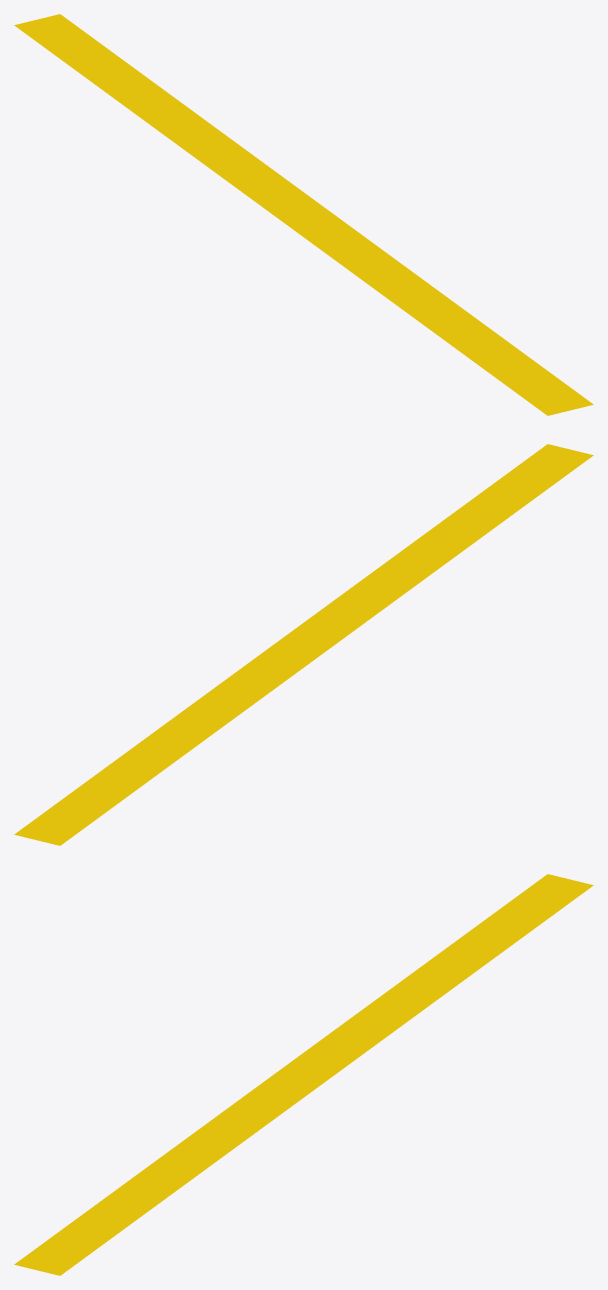
Rendered from 黃實線(改).FBX.
3 views of the same model, one above another, from view 1: azimuth 30°, elevation 25°; view 2: azimuth 150°, elevation 25°; view 3: azimuth 330°, elevation 25° (orthographic).
Visible parts, largest first — view 1: Plane001; view 2: Plane001; view 3: Plane001.
Boxes of the visible parts, x1,y1,x2,y2 form: Plane001: (14,14,593,415); Plane001: (14,444,593,845); Plane001: (14,874,593,1275).
Size of the model in its own units: 10 by 1.22e-14 by 200.
